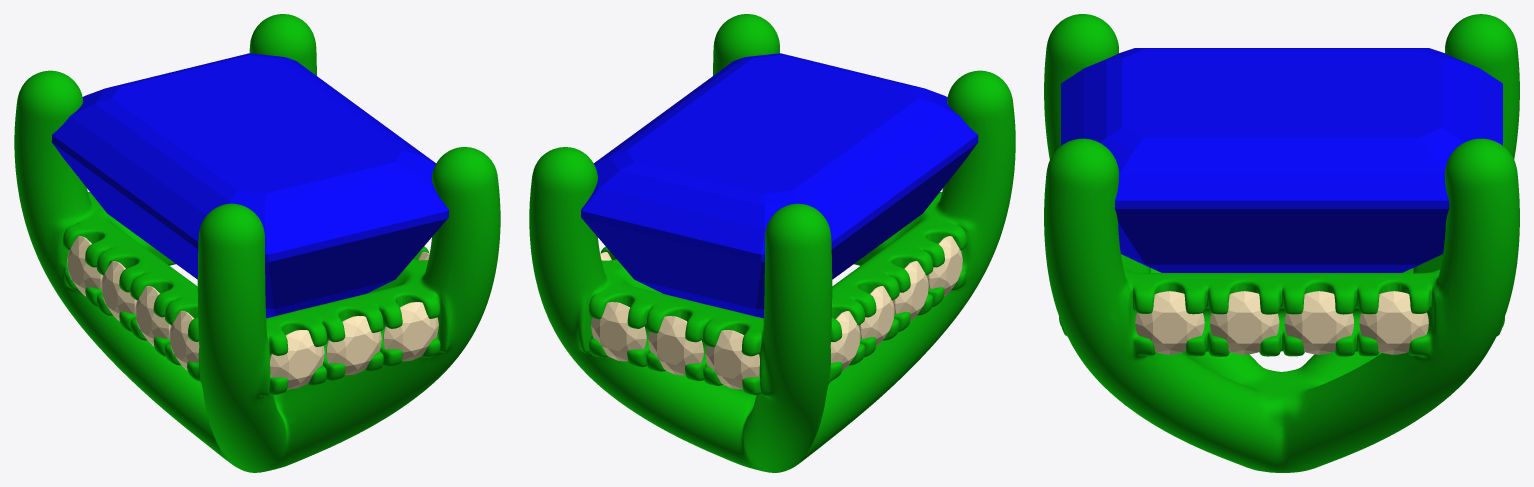
3 renders of one model, left to right at view 1: azimuth 30°, elevation 25°; view 2: azimuth 150°, elevation 25°; view 3: azimuth 270°, elevation 25°, orthographic. The views are drawn at different scales.
Visible parts, largest first — view 1: Metal01, Diamond_Emerald, Diamond_Round.011, Diamond_Round.012, Diamond_Round.013, Diamond_Round.006, Diamond_Round.003, Diamond_Round.004, Diamond_Round.005; view 2: Metal01, Diamond_Emerald, Diamond_Round.002, Diamond_Round.001, Diamond_Round, Diamond_Round.005, Diamond_Round.004, Diamond_Round.006, Diamond_Round.003; view 3: Metal01, Diamond_Emerald, Diamond_Round.008, Diamond_Round.010, Diamond_Round.007, Diamond_Round.009.
Boxes of the visible parts, <box> form: Metal01: <box>14,14,500,472</box>; Diamond_Emerald: <box>51,53,448,318</box>; Diamond_Round.011: <box>326,316,381,375</box>; Diamond_Round.012: <box>383,302,438,361</box>; Diamond_Round.013: <box>270,330,324,388</box>; Diamond_Round.006: <box>135,286,171,346</box>; Diamond_Round.003: <box>67,236,102,296</box>; Diamond_Round.004: <box>101,261,136,321</box>; Diamond_Round.005: <box>169,310,199,370</box>; Metal01: <box>529,14,1015,472</box>; Diamond_Emerald: <box>581,53,978,318</box>; Diamond_Round.002: <box>648,316,703,375</box>; Diamond_Round.001: <box>591,302,646,361</box>; Diamond_Round: <box>705,330,759,389</box>; Diamond_Round.005: <box>927,236,962,296</box>; Diamond_Round.004: <box>858,286,894,346</box>; Diamond_Round.006: <box>893,261,928,321</box>; Diamond_Round.003: <box>830,311,860,371</box>; Metal01: <box>1044,14,1519,472</box>; Diamond_Emerald: <box>1061,48,1502,272</box>; Diamond_Round.008: <box>1135,291,1204,354</box>; Diamond_Round.010: <box>1359,291,1428,354</box>; Diamond_Round.007: <box>1210,291,1279,354</box>; Diamond_Round.009: <box>1284,291,1353,354</box>.
Bounding box in the file's own units: 5.62 × 6.38 × 7.2.
